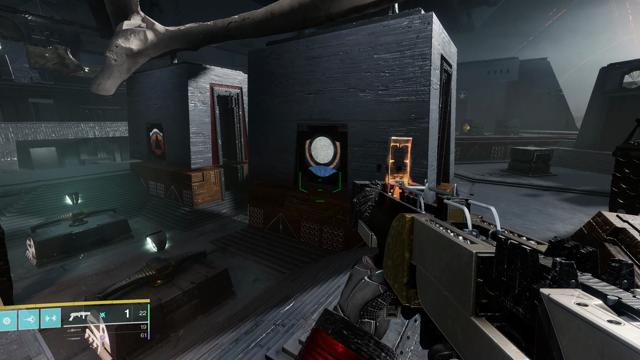pyramid: (150, 128, 164, 155)
traveler: (304, 134, 341, 177)
